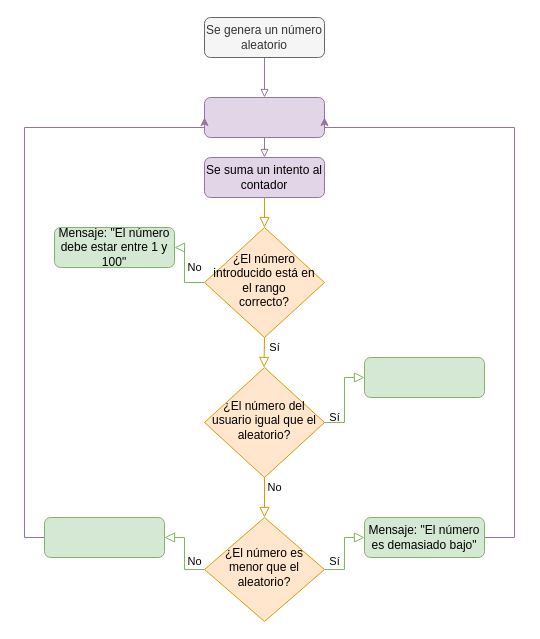
Some shapes in this 540 by 639 pixel diagram are drawn without their labels. The centre of each missing label's shape, as x and y in pixels:
El usuario introduce un número: the point at 264,117
Mensaje: "El número es demasiado alto": the point at 104,537
Mensaje: "Has ganado": the point at 424,377
